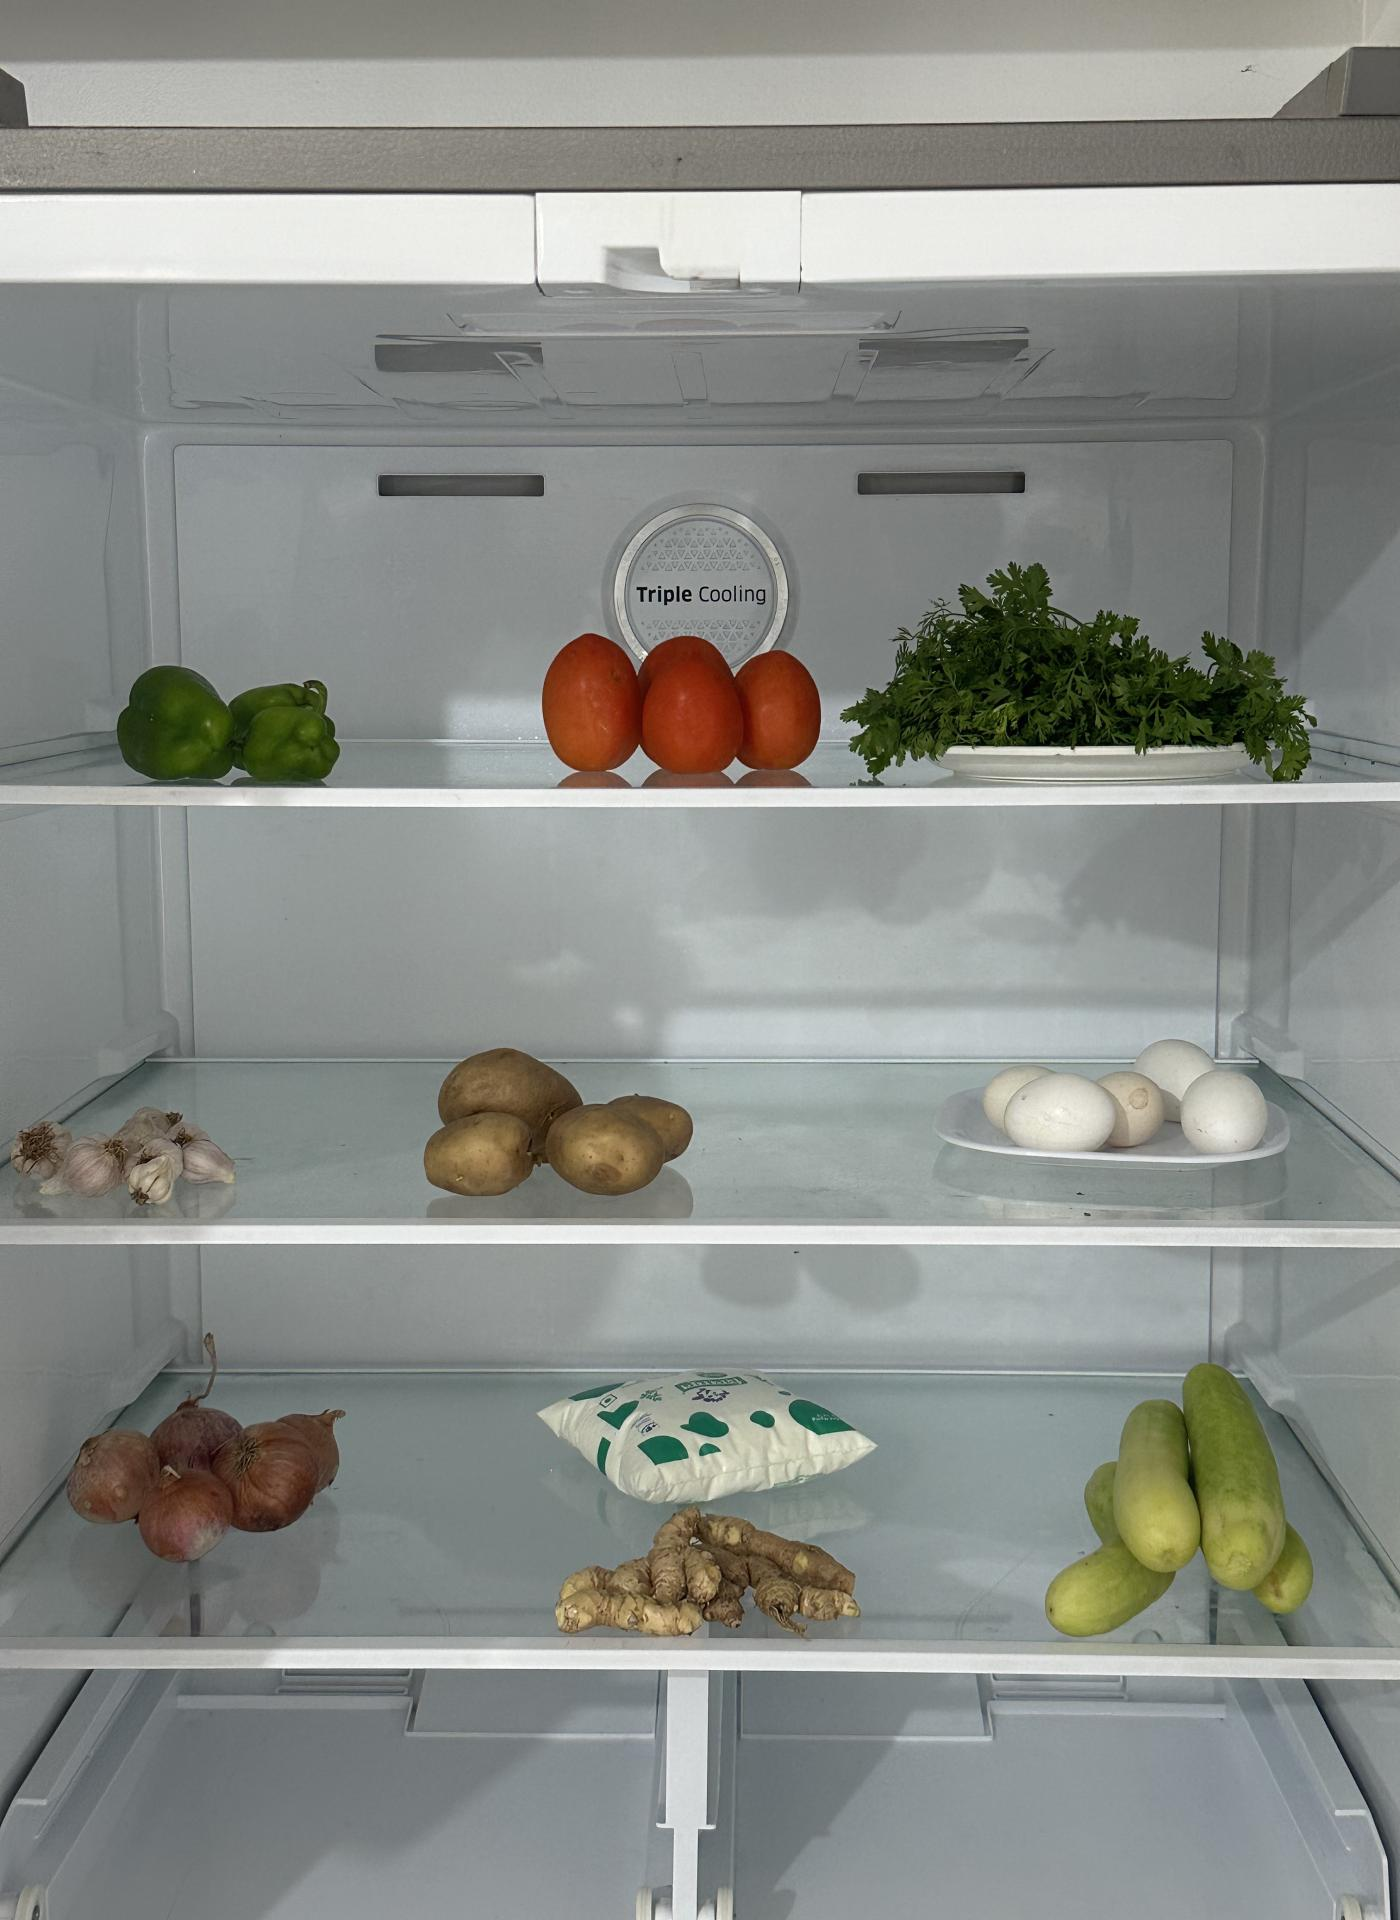capsicum: (110, 651, 343, 792)
coriander: (865, 589, 1296, 775)
cucumber: (1045, 1357, 1315, 1640)
egg: (942, 1030, 1288, 1164)
garlic: (6, 1100, 242, 1218)
ginger: (553, 1507, 857, 1641)
milk: (531, 1367, 878, 1498)
onion: (52, 1388, 349, 1568)
potato: (423, 1043, 693, 1200)
tomato: (535, 626, 830, 781)
